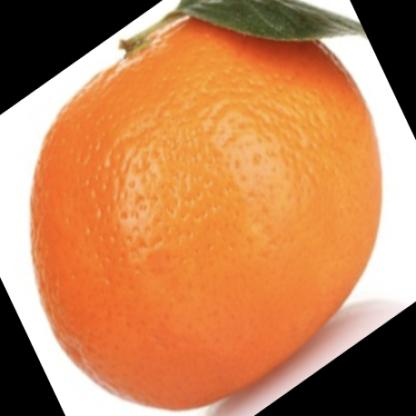fresh: (31, 13, 381, 414)
